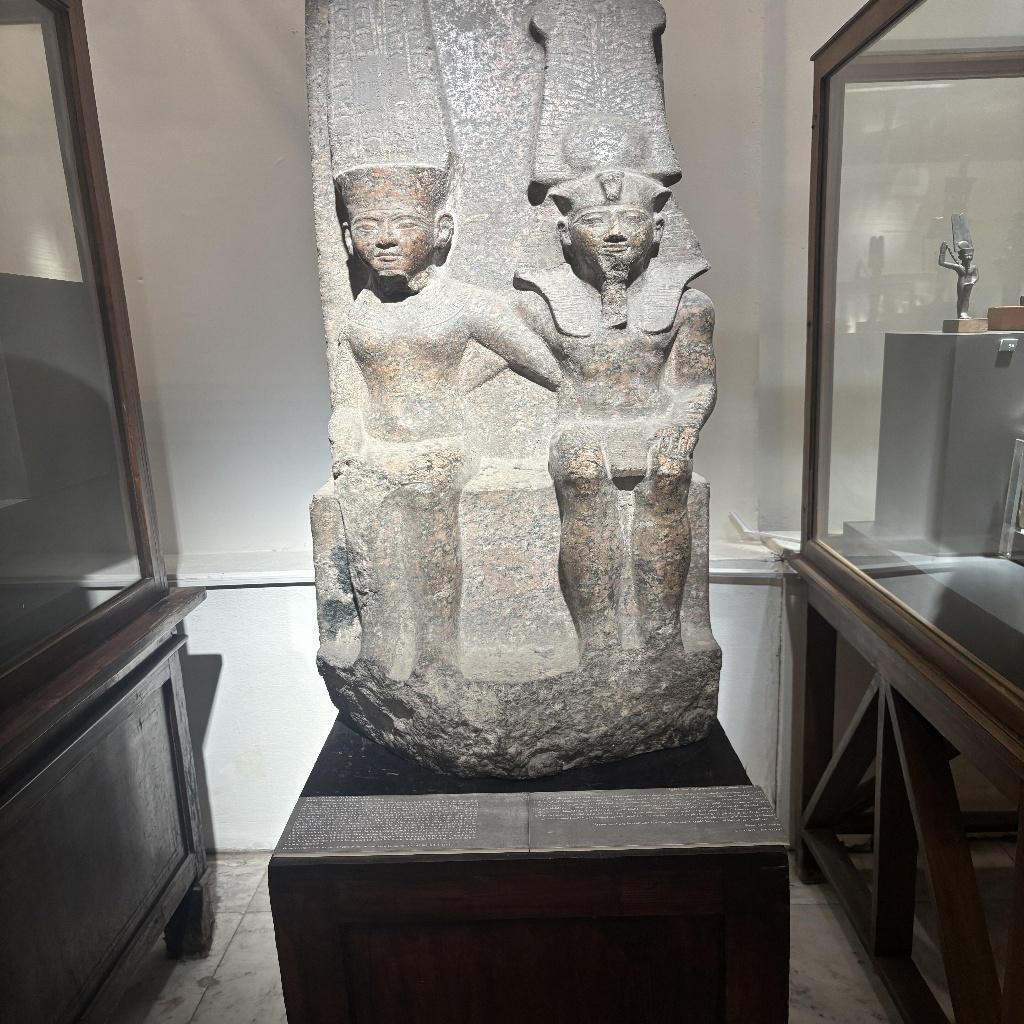Statue of Amun and King: (298, 77, 726, 792)
